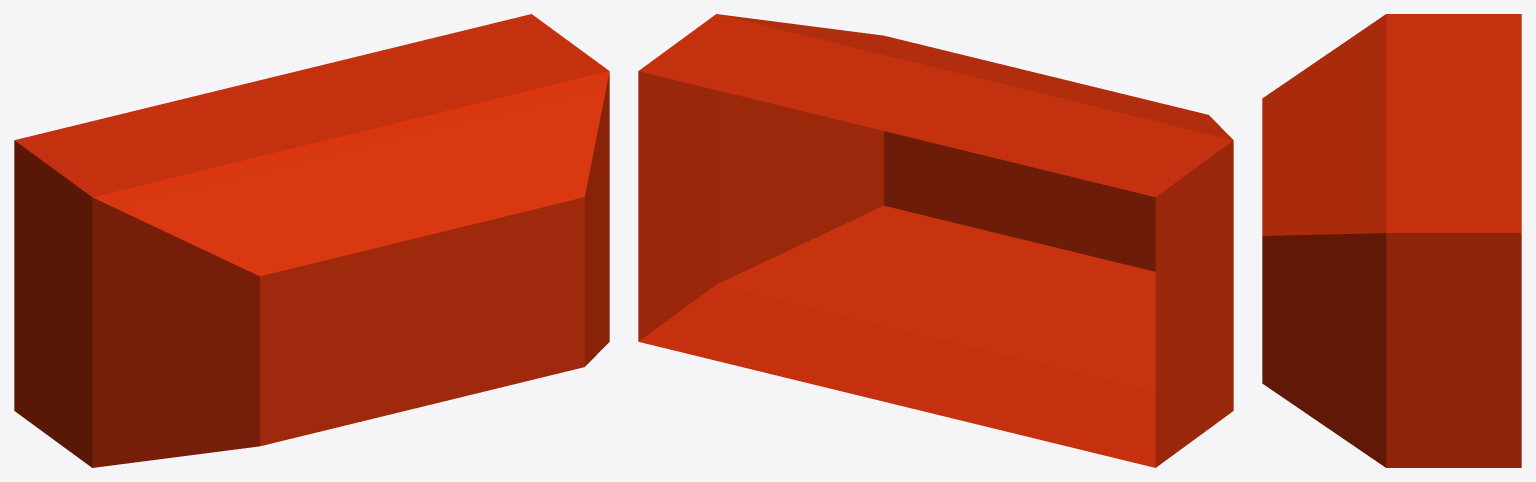
File: BlockRed.fbx
The picture shows the model from 3 angles, left to right: view 1: azimuth 30°, elevation 25°; view 2: azimuth 150°, elevation 25°; view 3: azimuth 270°, elevation 25°; orthographic projection. The views are drawn at different scales.
Parts seen in each view (by area): view 1: BlockRed; view 2: BlockRed; view 3: BlockRed.
Part boxes in pixels (x1,y1,x2,y2): BlockRed: (14, 14, 609, 467); BlockRed: (638, 14, 1233, 467); BlockRed: (1262, 14, 1521, 467).
Bounding box in the file's own units: 108 × 54.18 × 54.18.
Materials: 1 (1 with a texture image).
